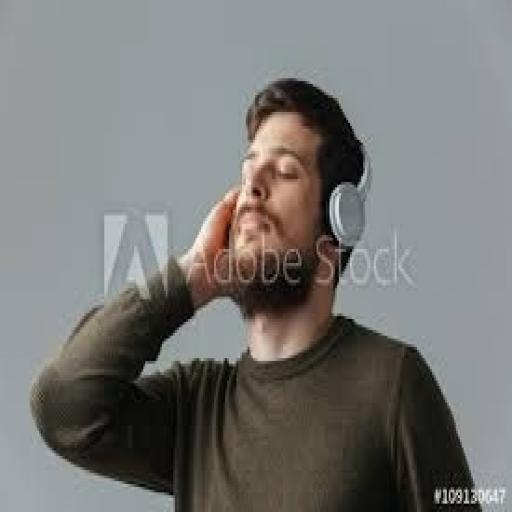listening_to_music: (28, 73, 484, 509)
